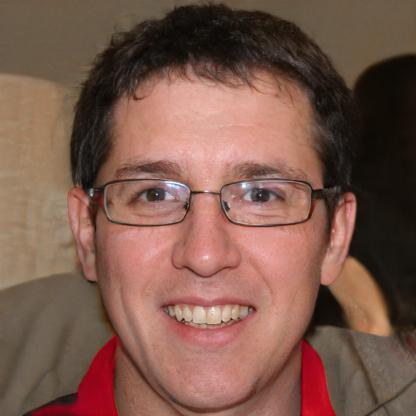glasses: (93, 172, 325, 232)
